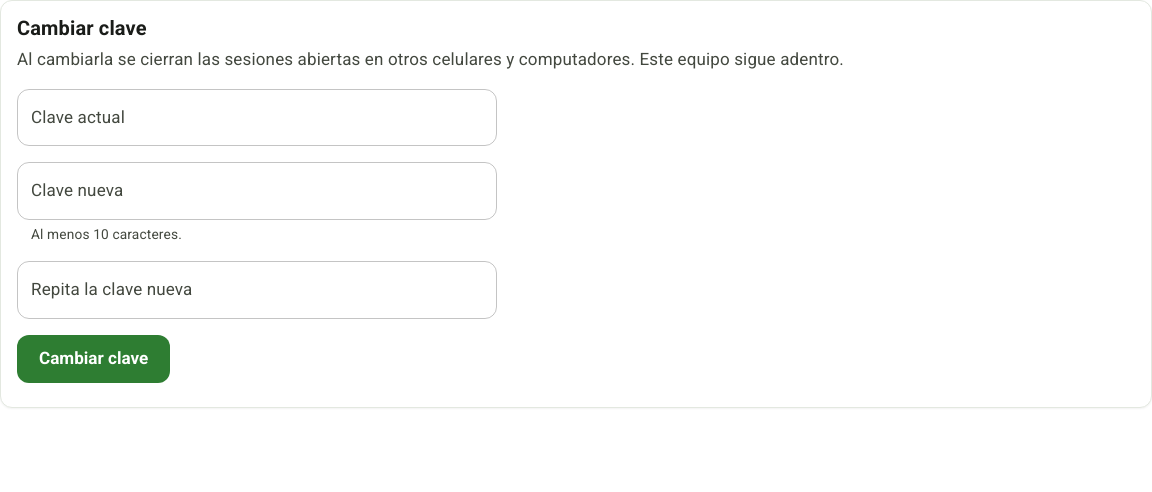
Test: ChangePasswordCard — checks before the server › asks for the current password first
In the password field labelled "Clave nueva": (257, 191) [17,162,497,220], type "nueva-clave-larga"
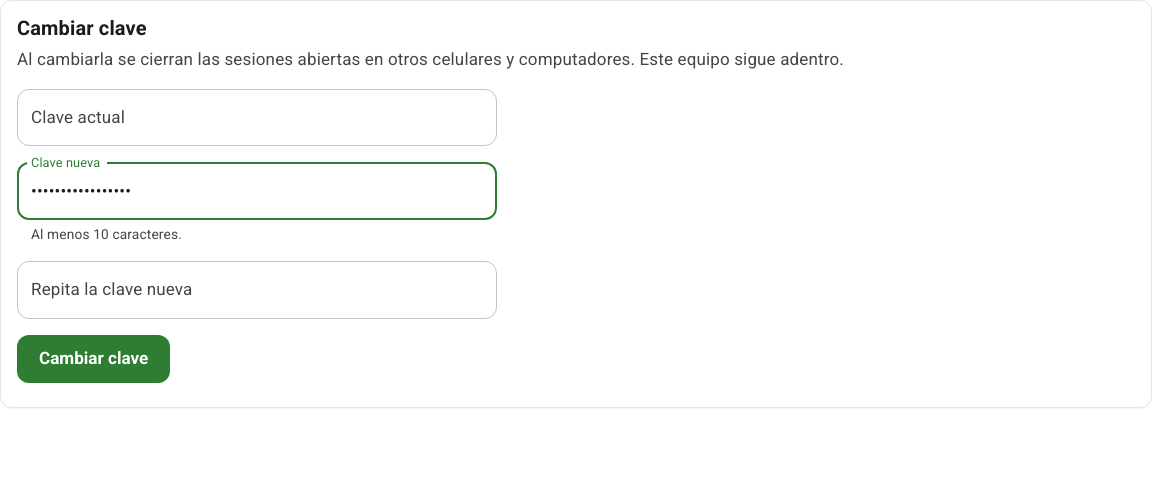
In the password field labelled "Repita la clave nueva": (257, 290) [17,262,497,319], type "nueva-clave-larga"
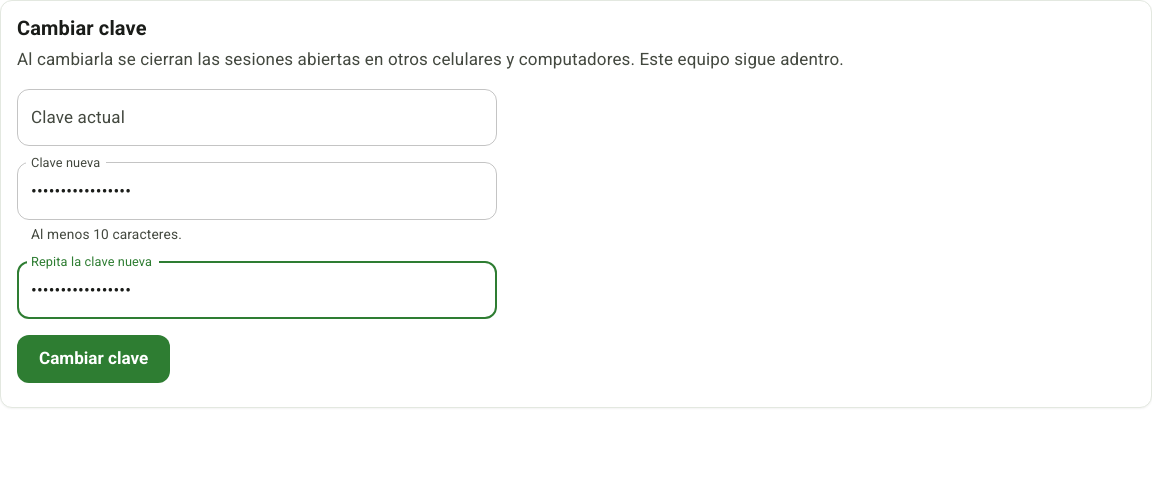
Click the button "Cambiar clave": click(94, 359) [17,335,170,383]
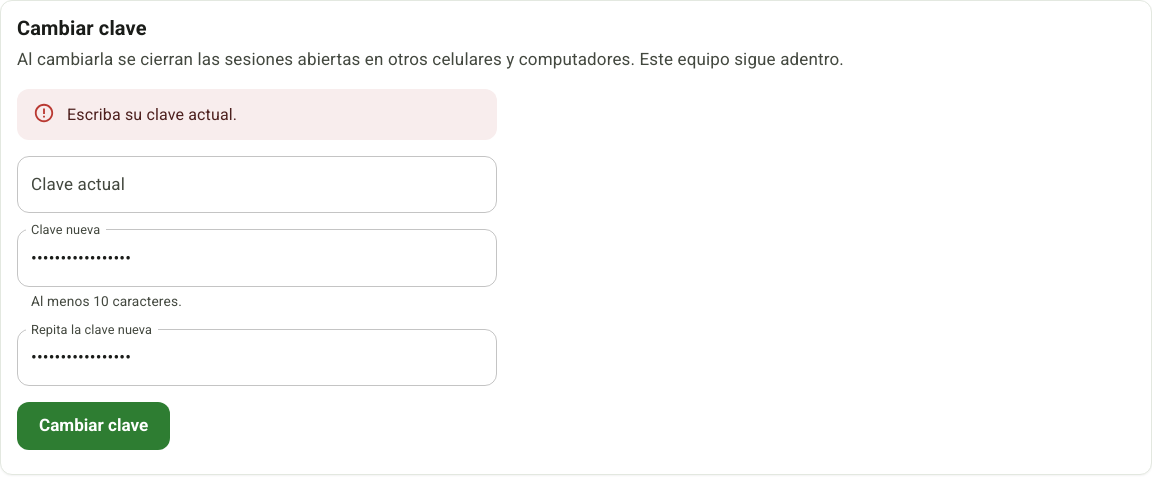
Expected: the text "Escriba su clave actual." is shown, [67,105,237,124]
